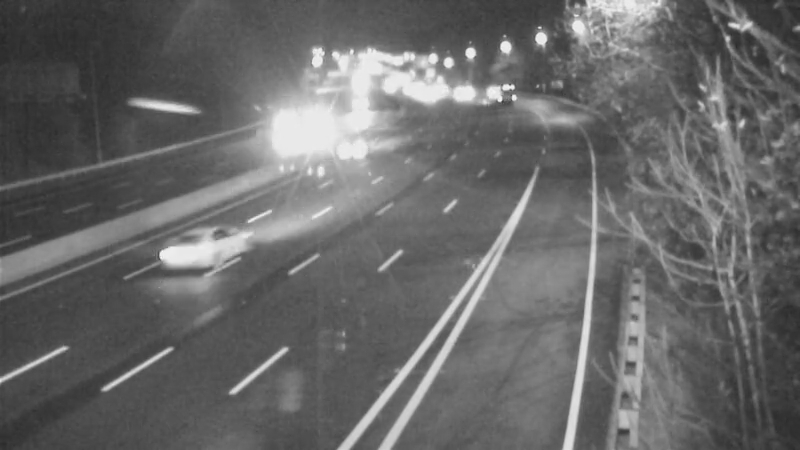vehicle: (146, 216, 226, 296), (471, 68, 521, 118), (442, 71, 492, 121), (329, 122, 379, 172), (258, 102, 308, 152), (288, 113, 338, 163), (339, 84, 389, 134)
